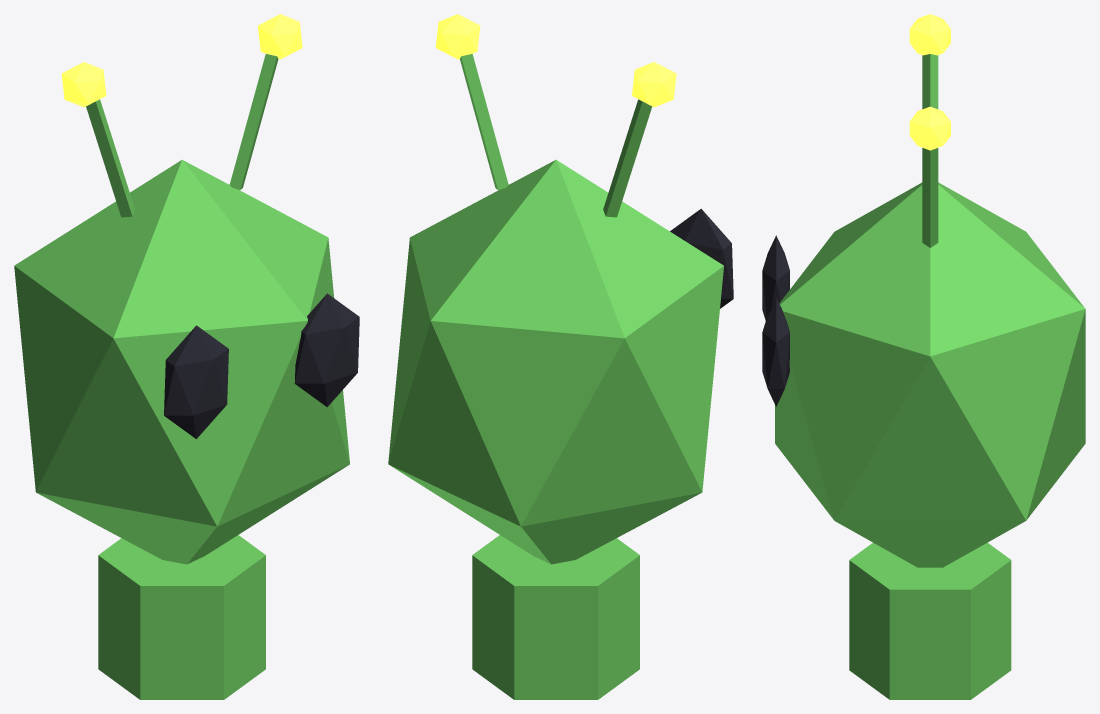
File: lowpoly-alien.glb
3 renders of one model, left to right at view 1: azimuth 30°, elevation 25°; view 2: azimuth 150°, elevation 25°; view 3: azimuth 270°, elevation 25°, orthographic. The views are drawn at different scales.
Visible parts, largest first — view 1: alien; view 2: alien; view 3: alien.
Part boxes in pixels (x1,y1,x2,y2): alien: [14, 14, 359, 699]; alien: [388, 14, 733, 699]; alien: [762, 14, 1085, 699].
Size of the model in its own units: 0.805 by 1.66 by 0.7968.
